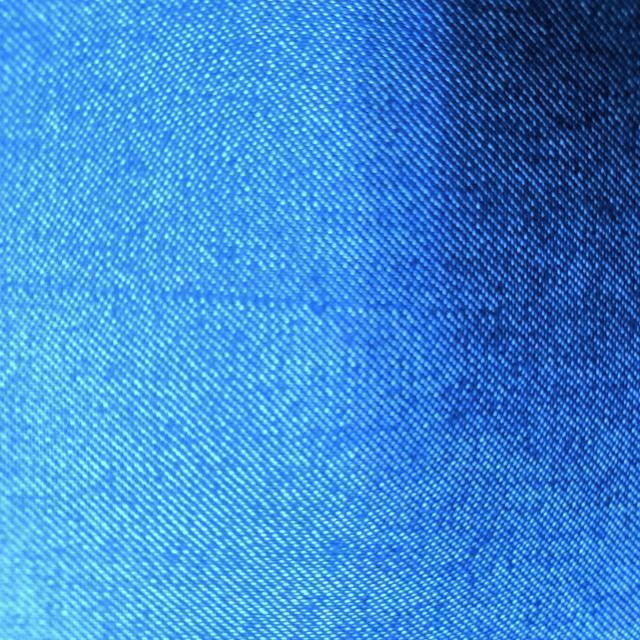Line: (12, 277, 515, 333)
